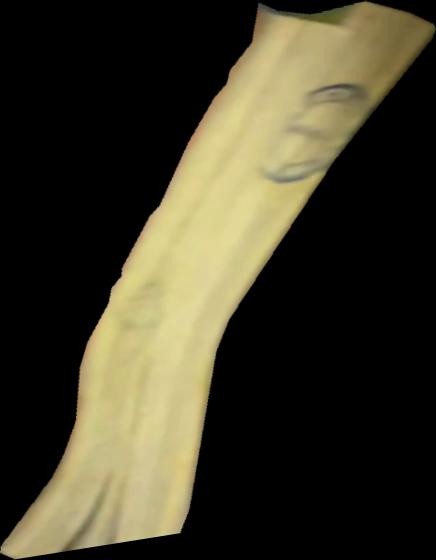backward: (1, 1, 436, 560)
